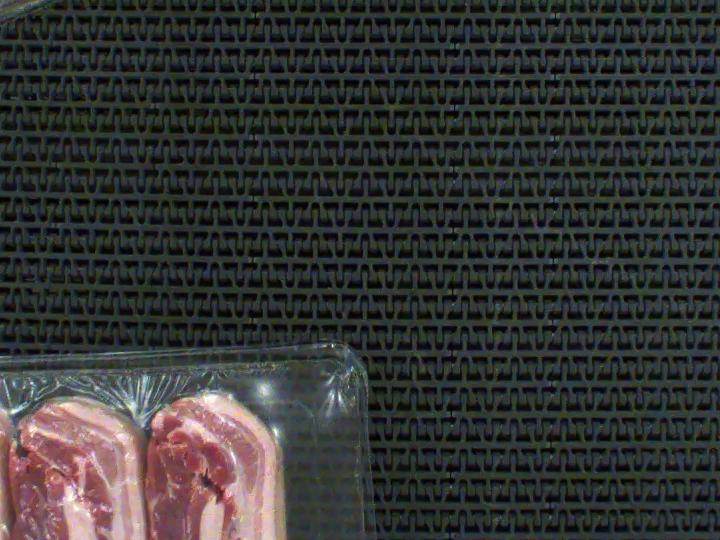unsealed: (0, 375, 345, 540)
